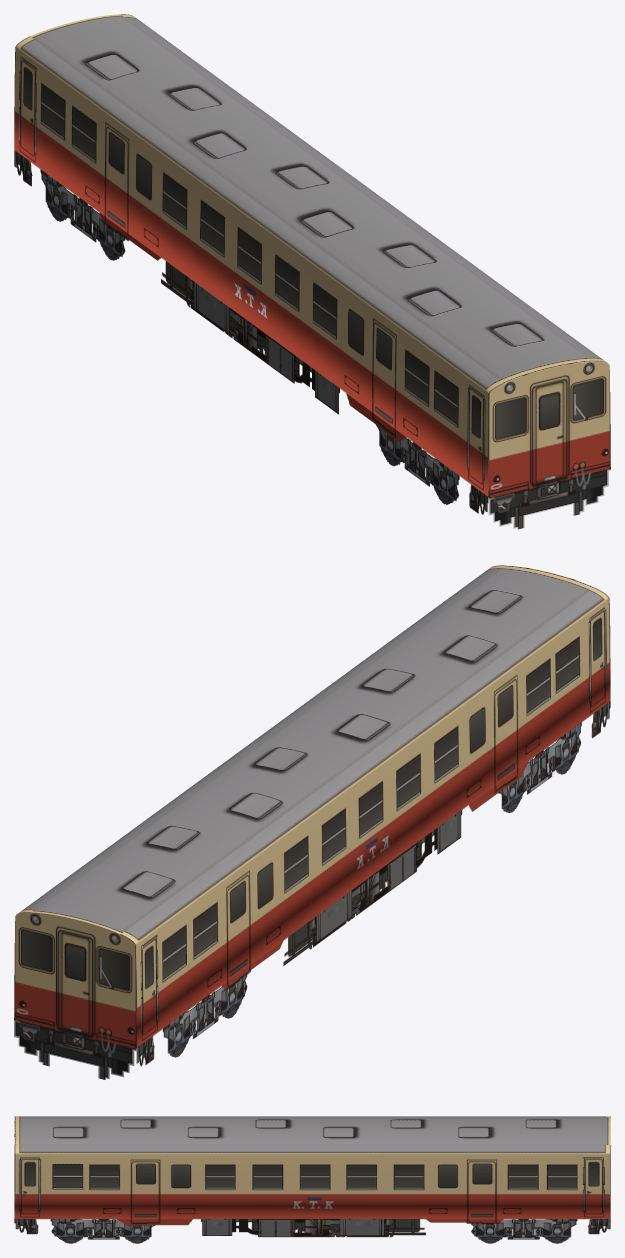
The model's file is car1.glb.
The picture shows the model from 3 angles, top to bottom: view 1: azimuth 30°, elevation 25°; view 2: azimuth 150°, elevation 25°; view 3: azimuth 270°, elevation 25°; orthographic projection. The views are drawn at different scales.
Visible parts, largest first — view 1: kominato-kiha200-car1; view 2: kominato-kiha200-car1; view 3: kominato-kiha200-car1.
Part boxes in pixels (x1,y1,x2,y2): kominato-kiha200-car1: (14, 14, 610, 529); kominato-kiha200-car1: (14, 565, 610, 1079); kominato-kiha200-car1: (14, 1116, 610, 1243).
Size of the model in its own units: 2.9 by 3.47 by 19.53.
Materials: 8 (7 with a texture image).
